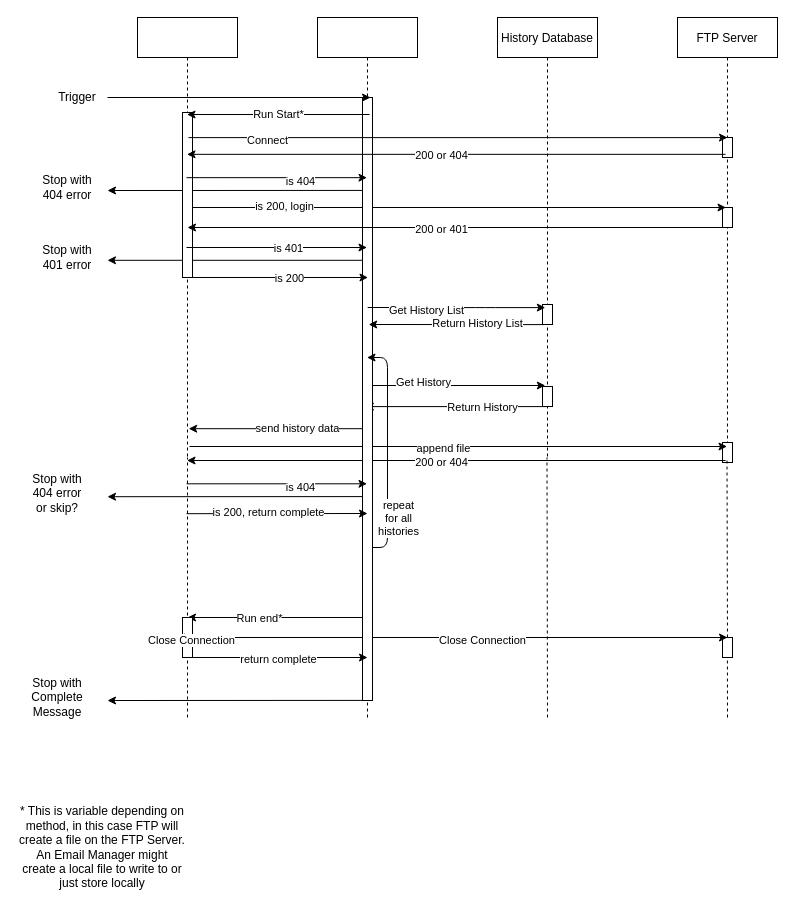
Image size: 795x908. Some labels were removed from this diagram. Here are the shapes that lost their labels. From the top down, the box of each, then its label:
(136, 16, 238, 458): FTPSyncManager
(316, 16, 418, 458): History Exporter
